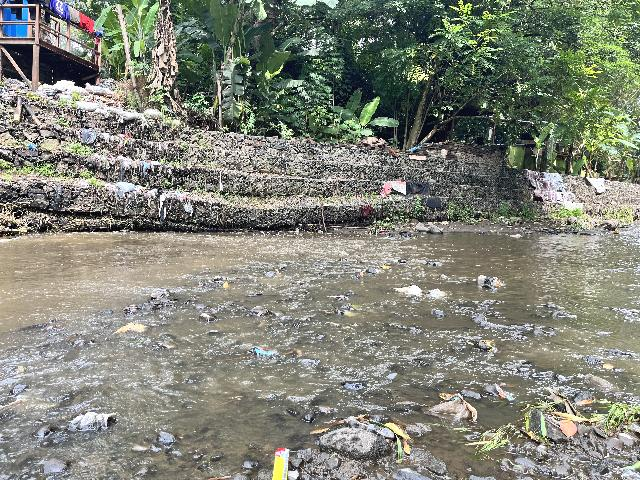Sampah Anorganik: (106, 317, 157, 342), (267, 443, 295, 480), (474, 271, 509, 294), (490, 379, 518, 407), (250, 341, 281, 364)
